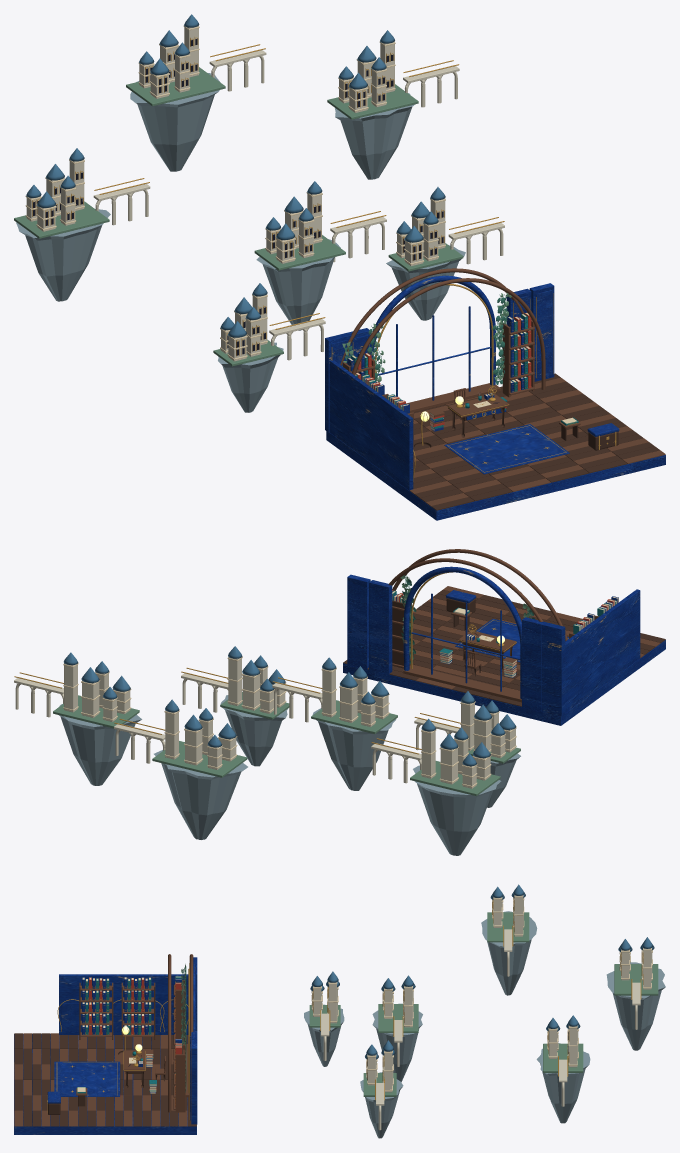
File: attic-storybook-v2.glb
3 views of the same model, one above another, from view 1: azimuth 30°, elevation 25°; view 2: azimuth 150°, elevation 25°; view 3: azimuth 270°, elevation 25° (orthographic). The views are drawn at different scales.
Parts seen in each view (by area): view 1: Attic_Atelier_Atelier_navy, Skyline_cityRock, Skyline_cityStone, Attic_Atelier_Atelier_wood, Attic_Atelier_Atelier_wood2, Skyline_cityGreen, Skyline_cityRoof, Skyline_Atelier_gold, Skyline_Atelier_paper, Attic_Atelier_Atelier_blue, Skyline_Atelier_ink, Attic_Atelier_Atelier_gold (+3 smaller); view 2: Attic_Atelier_Atelier_navy, Skyline_cityRock, Skyline_cityStone, Attic_Atelier_Atelier_wood2, Attic_Atelier_Atelier_wood, Skyline_cityRoof, Skyline_cityGreen, Skyline_Atelier_paper, Skyline_Atelier_gold, Attic_Atelier_Atelier_paper, DeskPuzzle_Atelier_wood2; view 3: Attic_Atelier_Atelier_navy, Attic_Atelier_Atelier_wood2, Attic_Atelier_Atelier_wood, Skyline_cityRock, Skyline_cityStone, Skyline_cityGreen, Skyline_cityRoof, Attic_Atelier_Atelier_blue, Skyline_Atelier_paper, Attic_Atelier_Atelier_teal, Attic_Atelier_Atelier_coat, Attic_Atelier_Atelier_gold (+3 smaller).
Boxes of the visible parts, x1,y1,x2,y2 form: Attic_Atelier_Atelier_navy: [325, 275, 665, 520]; Skyline_cityRock: [16, 73, 465, 412]; Skyline_cityStone: [26, 25, 504, 361]; Attic_Atelier_Atelier_wood: [346, 324, 659, 510]; Attic_Atelier_Atelier_wood2: [340, 268, 665, 506]; Skyline_cityGreen: [14, 67, 463, 366]; Skyline_cityRoof: [26, 14, 445, 337]; Skyline_Atelier_gold: [32, 36, 504, 356]; Skyline_Atelier_paper: [25, 25, 445, 360]; Attic_Atelier_Atelier_blue: [331, 290, 552, 378]; Skyline_Atelier_ink: [33, 39, 443, 355]; Attic_Atelier_Atelier_gold: [331, 284, 616, 481]; Attic_Atelier_Atelier_navy: [343, 566, 665, 725]; Skyline_cityRock: [59, 695, 520, 855]; Skyline_cityStone: [14, 657, 515, 788]; Attic_Atelier_Atelier_wood2: [388, 549, 660, 702]; Attic_Atelier_Atelier_wood: [343, 590, 665, 706]; Skyline_cityRoof: [63, 646, 516, 766]; Skyline_cityGreen: [53, 692, 520, 796]; Skyline_Atelier_paper: [63, 656, 516, 787]; Skyline_Atelier_gold: [14, 667, 460, 754]; Attic_Atelier_Atelier_paper: [392, 591, 618, 677]; DeskPuzzle_Atelier_wood2: [458, 630, 516, 652]; Attic_Atelier_Atelier_navy: [14, 957, 197, 1134]; Attic_Atelier_Atelier_wood2: [14, 954, 193, 1126]; Attic_Atelier_Atelier_wood: [14, 980, 196, 1126]; Skyline_cityRock: [304, 911, 665, 1138]; Skyline_cityStone: [312, 895, 652, 1130]; Skyline_cityGreen: [309, 912, 658, 1096]; Skyline_cityRoof: [310, 884, 654, 1059]; Attic_Atelier_Atelier_blue: [61, 1003, 190, 1120]; Skyline_Atelier_paper: [311, 895, 652, 1090]; Attic_Atelier_Atelier_teal: [85, 976, 181, 1091]; Attic_Atelier_Atelier_coat: [89, 977, 181, 1106]; Attic_Atelier_Atelier_gold: [47, 963, 189, 1119].
Size of the model in its own units: 24.65 by 11.05 by 35.62.
17 materials, 4 textured.
